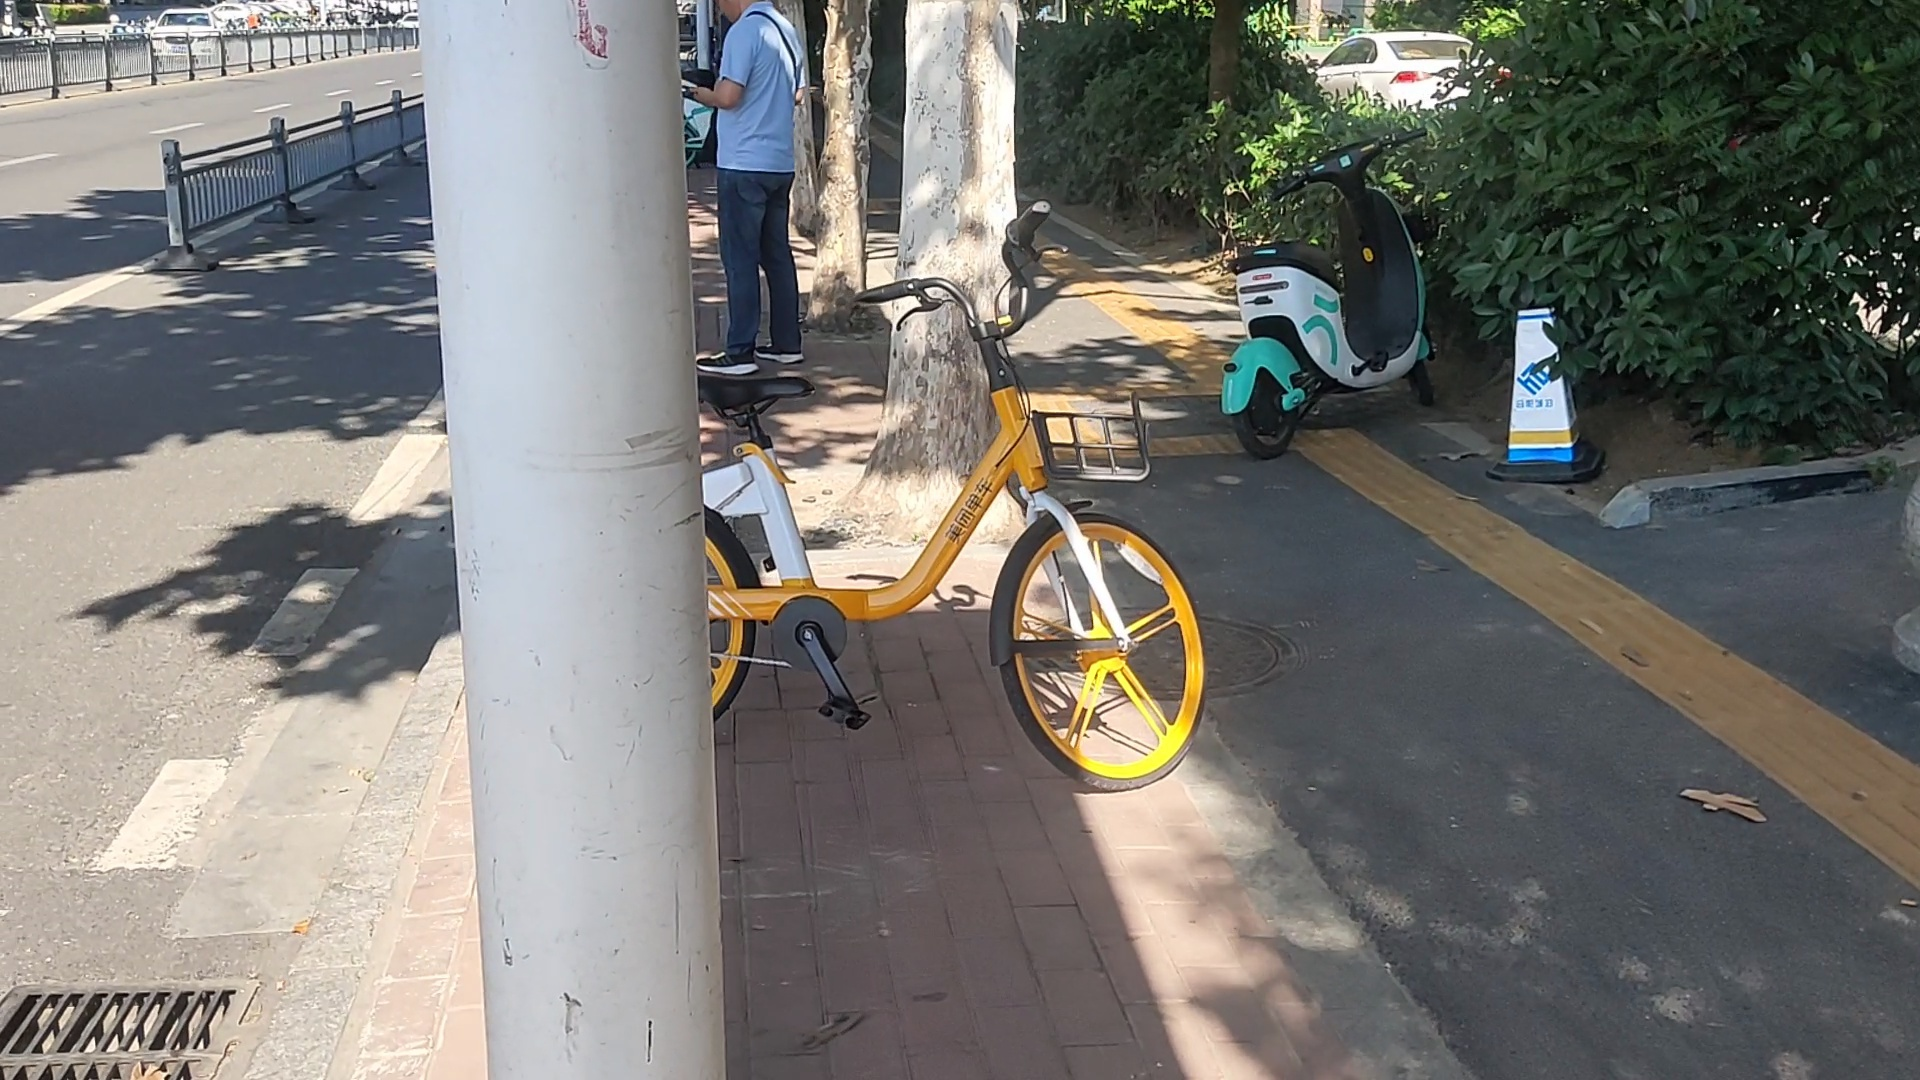non-vehicle: (684, 268, 1211, 793), (1216, 129, 1437, 459)
